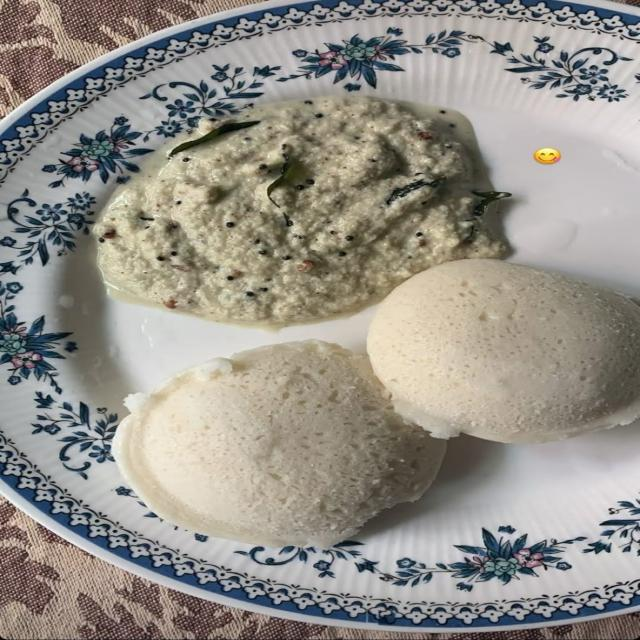chutney: (112, 102, 491, 314)
idly: (133, 355, 428, 553), (385, 282, 640, 447)
